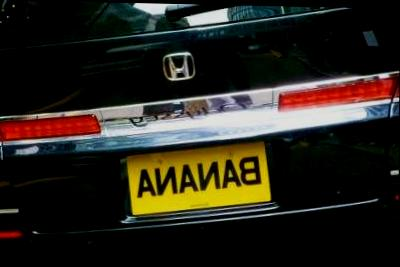License_Plate: (116, 130, 276, 227)
